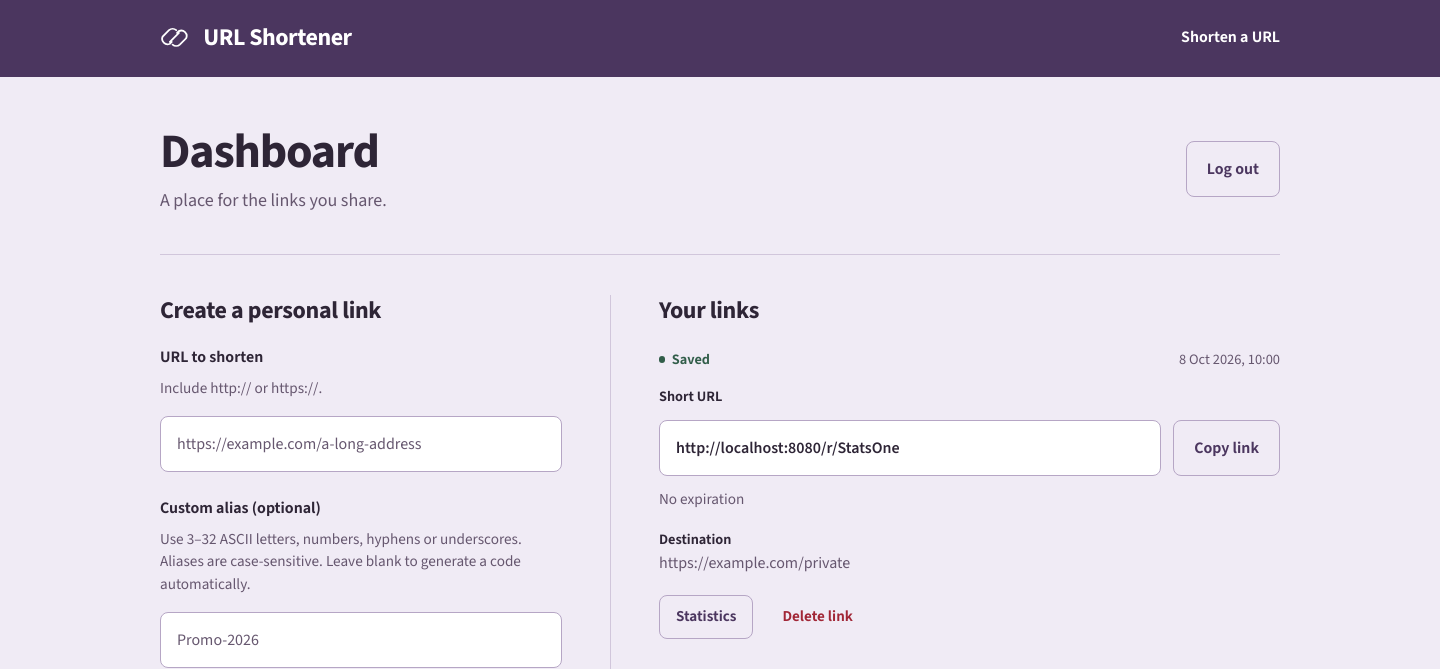
supports expired links and cancels stale responses when changing the selected link
The width and height of the screenshot is (1440, 669).
Click the button "Statistics" at point(706, 617), box [659, 595, 754, 639]
(page scrolled)
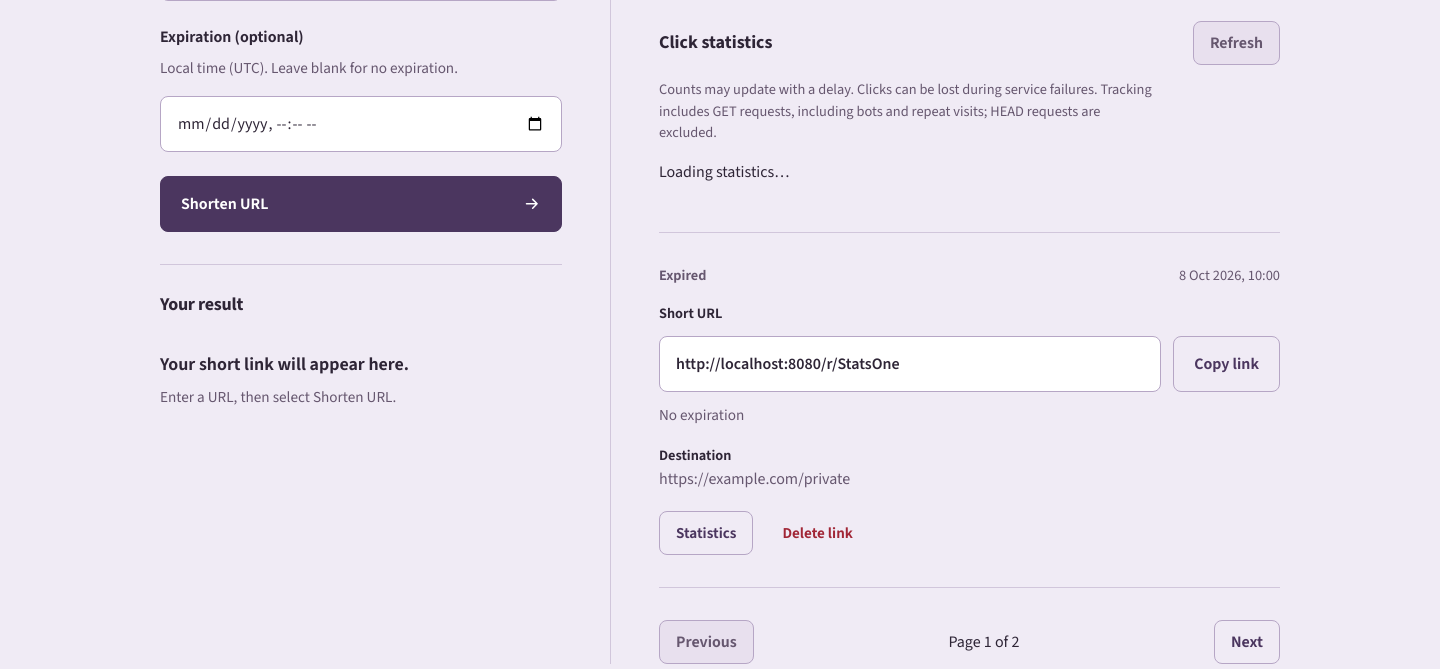
Click the button "Statistics" at point(706, 533), box [659, 511, 754, 555]
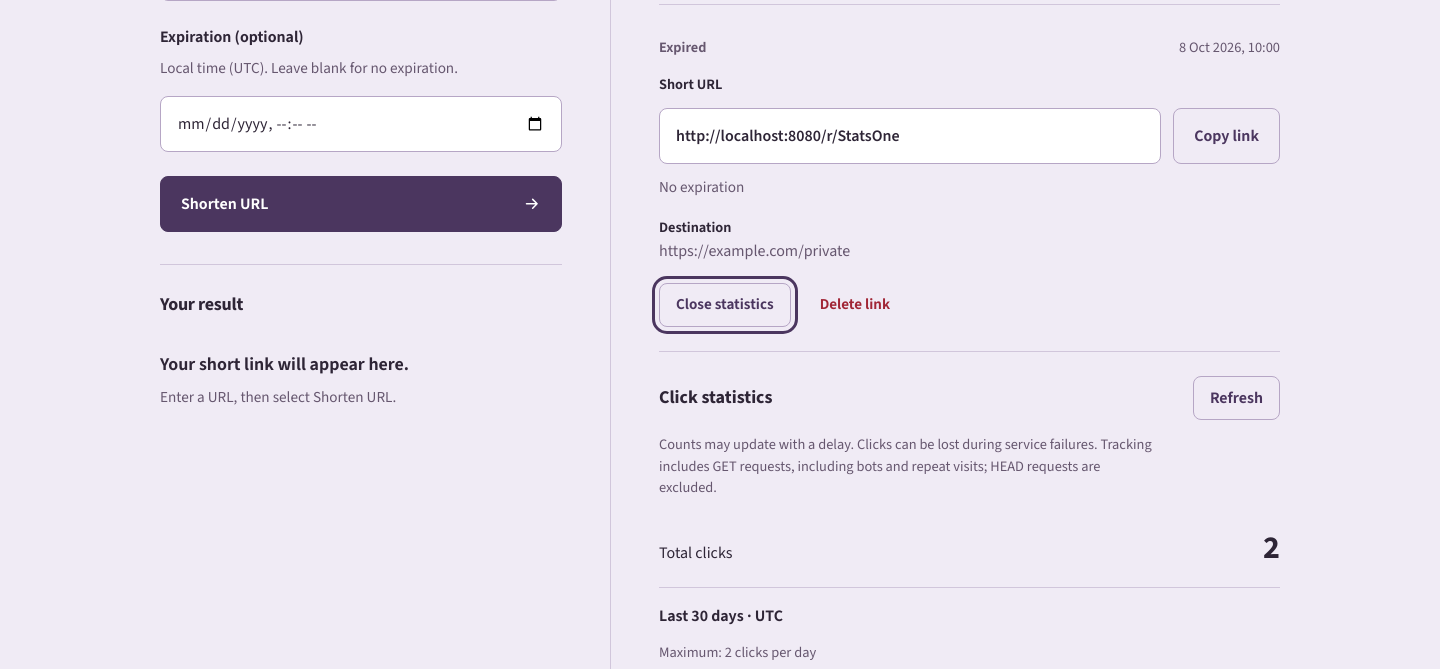
Check: the text "Total clicks" is shown, box [659, 542, 733, 563]
Check: the number of headings "Click statistics" is 1, box [659, 384, 772, 411]
Check: the text "2" is shown, box [1263, 523, 1280, 571]
